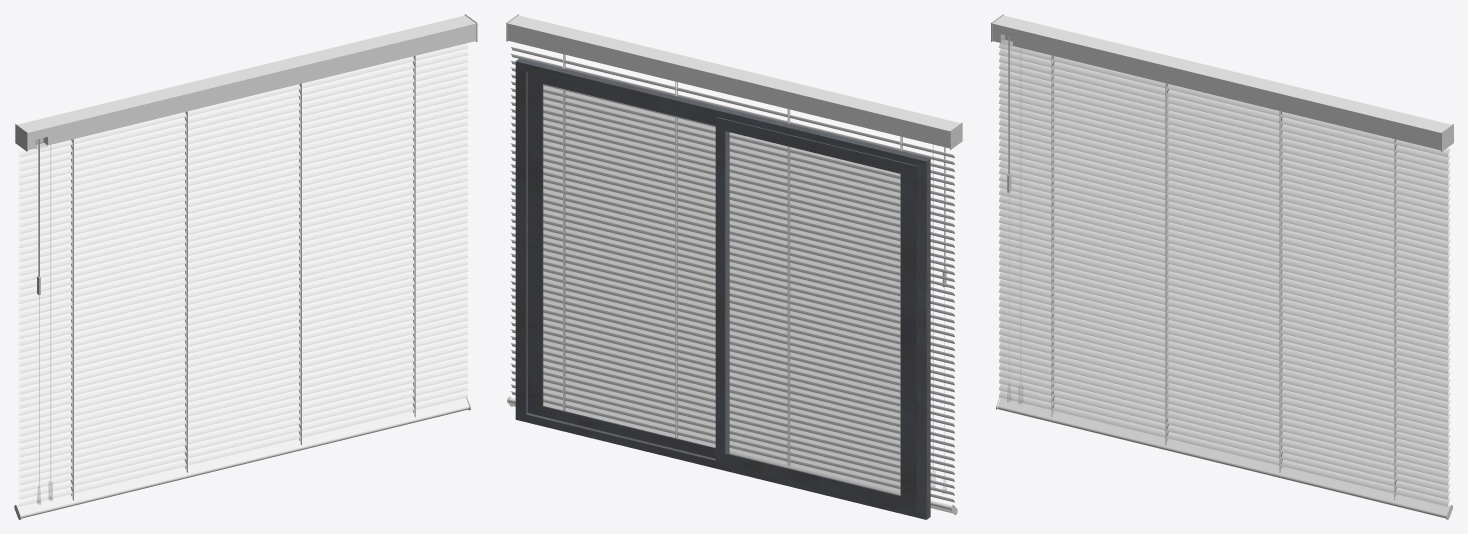
File: شباك(قايمه اكسسوارات ديكور).glb
3 renders of one model, left to right at view 1: azimuth 30°, elevation 25°; view 2: azimuth 150°, elevation 25°; view 3: azimuth 330°, elevation 25°, orthographic.
Visible parts, largest first — view 1: Geom3D, Geom3D_ (×4), Geom3D_ستاره; view 2: Geom3D (×3), Geom3D_ستاره; view 3: Geom3D, Geom3D_ (×3), Geom3D_ستاره.
Boxes of the visible parts, x1,y1,x2,y2 form: Geom3D: (16, 15, 476, 518); Geom3D_ (×4): (72, 56, 415, 500); Geom3D_ستاره: (14, 14, 477, 519); Geom3D (×3): (507, 15, 959, 519); Geom3D_ستاره: (506, 14, 962, 514); Geom3D: (992, 15, 1451, 518); Geom3D_ (×3): (1051, 55, 1280, 472); Geom3D_ستاره: (991, 14, 1453, 519).
Bounding box in the file's own units: 1.3 × 1.08 × 0.1038.
Materials: 4 (1 with a texture image).
